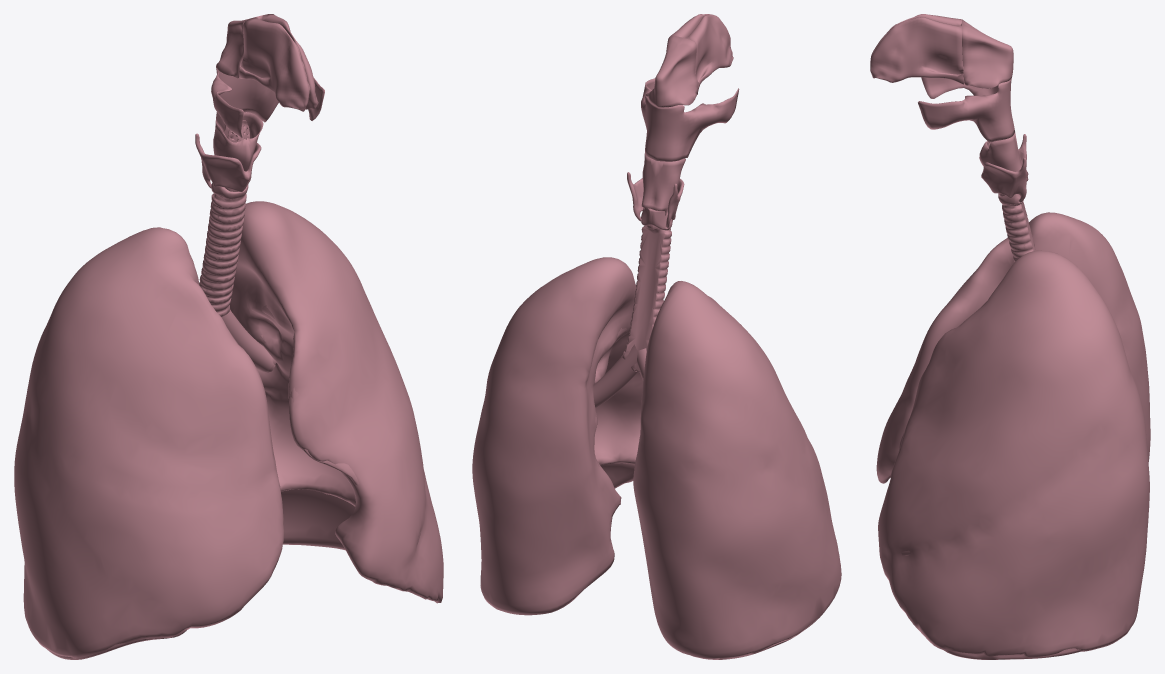
The model's file is male-respiratory.glb.
The picture shows the model from 3 angles, left to right: view 1: azimuth 30°, elevation 25°; view 2: azimuth 150°, elevation 25°; view 3: azimuth 270°, elevation 25°; orthographic projection. The views are drawn at different scales.
Parts seen in each view (by area): view 1: Pleura, Mucosa_of_nasal_cavity, Trachea, Oropharynx, Thyroid_cartilage, Laryngopharynx, Nasopharynx, Left_main_bronchus; view 2: Pleura, Oropharynx, Trachea, Nasopharynx, Mucosa_of_nasal_cavity, Laryngopharynx, Left_main_bronchus, Thyroid_cartilage; view 3: Pleura, Mucosa_of_nasal_cavity, Oropharynx, Nasopharynx, Thyroid_cartilage, Trachea, Laryngopharynx, Inferior_lobe_of_left_lung.
Boxes of the visible parts, x1,y1,x2,y2 form: Pleura: (14, 201, 443, 658); Mucosa_of_nasal_cavity: (239, 14, 318, 111); Trachea: (199, 193, 246, 316); Oropharynx: (211, 66, 324, 138); Thyroid_cartilage: (195, 133, 261, 191); Laryngopharynx: (213, 112, 263, 199); Nasopharynx: (216, 15, 263, 78); Left_main_bronchus: (221, 310, 273, 371); Pleura: (472, 257, 841, 659); Oropharynx: (641, 78, 739, 161); Trachea: (621, 225, 671, 372); Nasopharynx: (645, 36, 698, 107); Mucosa_of_nasal_cavity: (671, 14, 733, 91); Laryngopharynx: (641, 154, 685, 230); Left_main_bronchus: (593, 344, 637, 407); Thyroid_cartilage: (627, 172, 684, 227); Pleura: (876, 212, 1150, 657); Mucosa_of_nasal_cavity: (870, 14, 963, 84); Oropharynx: (918, 77, 1014, 142); Nasopharynx: (961, 19, 1013, 88); Thyroid_cartilage: (981, 134, 1026, 202); Trachea: (1002, 202, 1035, 261); Laryngopharynx: (979, 132, 1028, 205); Inferior_lobe_of_left_lung: (943, 648, 1082, 659).
Bounding box in the file's own units: 0.8422 × 1.38 × 0.6159.
